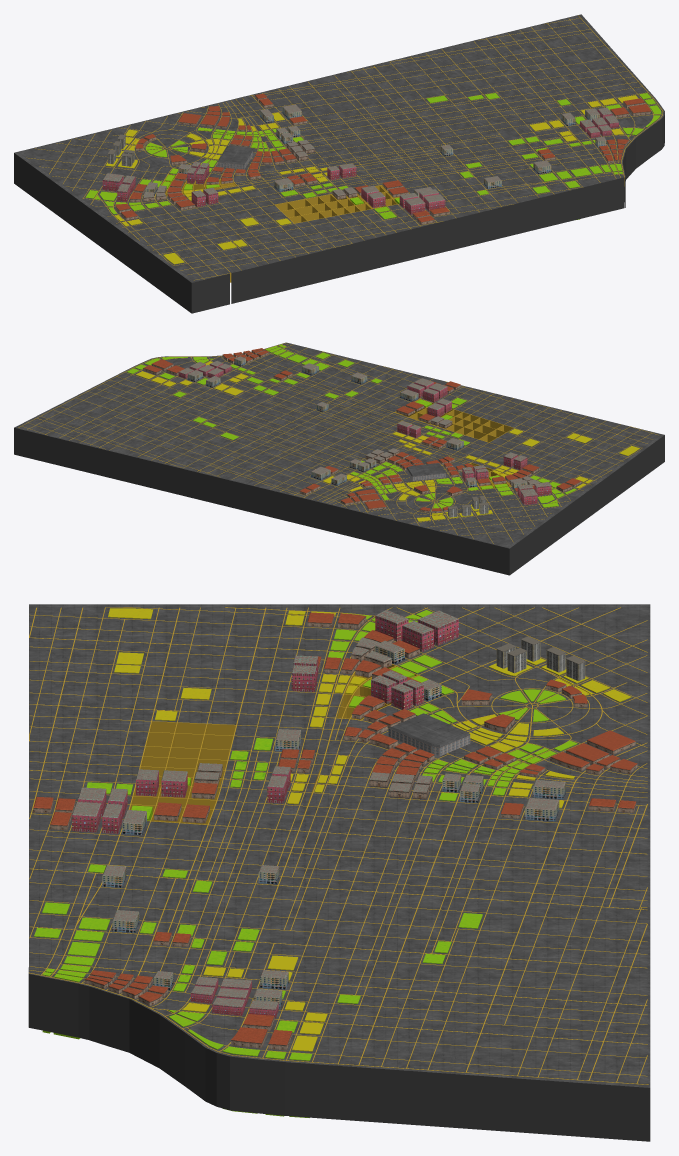
File: city_base.fbx
The picture shows the model from 3 angles, top to bottom: view 1: azimuth 30°, elevation 25°; view 2: azimuth 150°, elevation 25°; view 3: azimuth 270°, elevation 25°; orthographic projection. The views are drawn at different scales.
Visible parts, largest first — view 1: blocks.5689; view 2: blocks.5689; view 3: blocks.5689.
Boxes of the visible parts, <box> form: blocks.5689: <box>14,14,664,313</box>; blocks.5689: <box>14,342,664,575</box>; blocks.5689: <box>28,604,650,1141</box>.
Bounding box in the file's own units: 202759 × 14731 × 110160.
